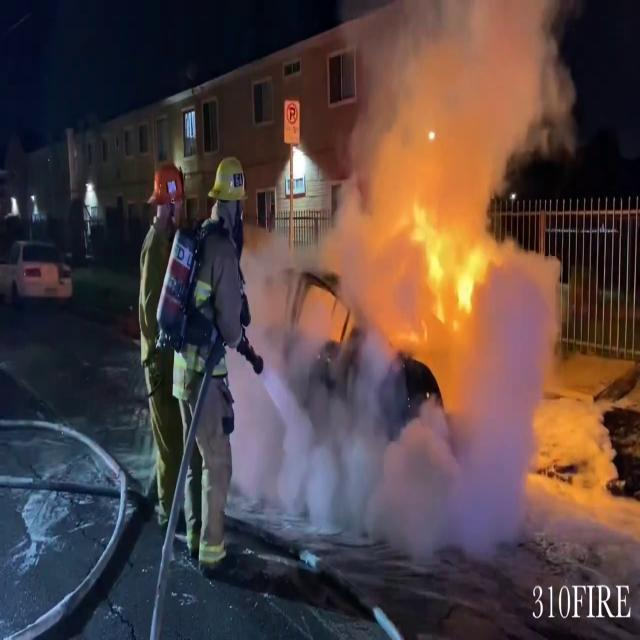Smoke: (287, 2, 578, 553)
